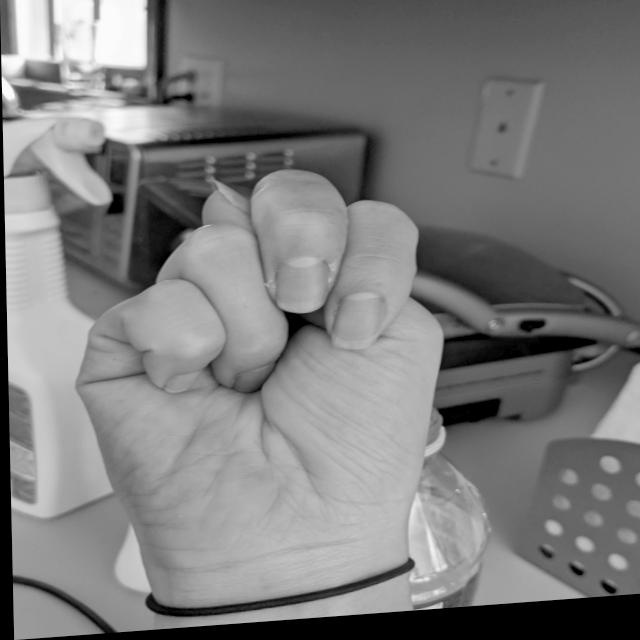N: (63, 156, 452, 585)
